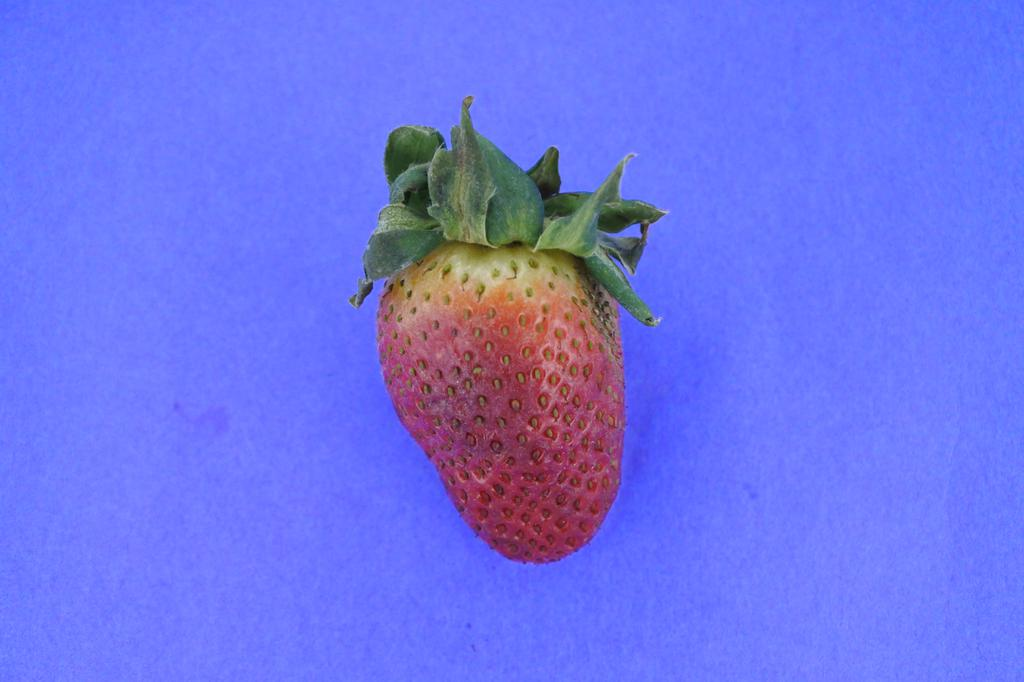red strawberry: (352, 96, 666, 565)
